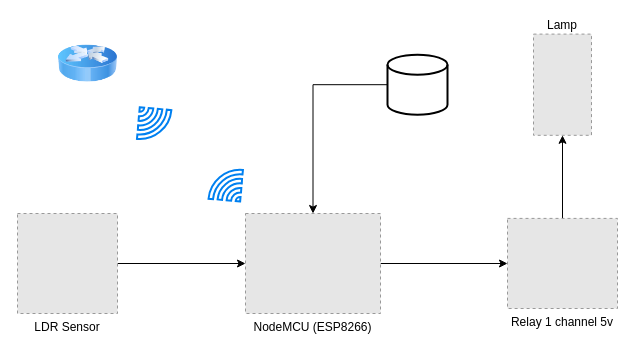
Some shapes in this 635 by 352 pixel diagram are drawn without their labels. Grey dashed boxes stand in for pictures. Here are the shapes that lost their labels. From the top down, the centre of each, then its label:
At pixel 87 63: "WiFi Router".
At pixel 417 84: "NTP time".
